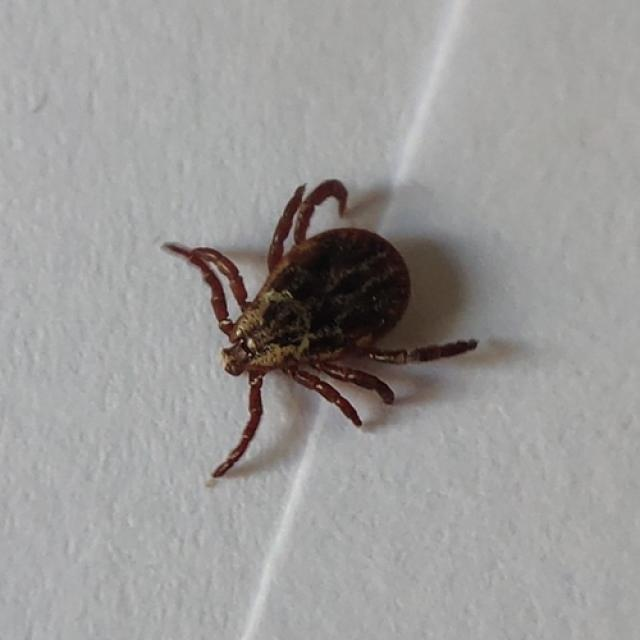Dermacentor Reticulatus-M: (163, 182, 479, 481)
